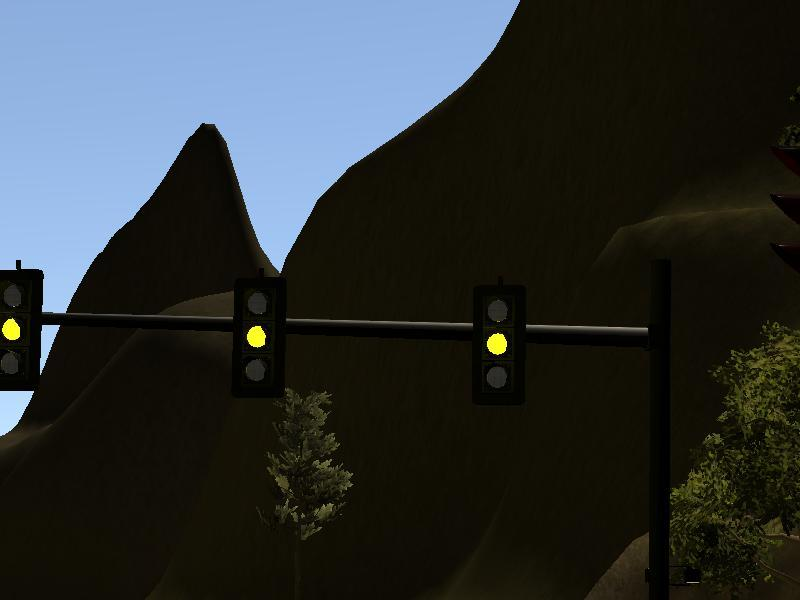Yellow: (469, 283, 526, 408), (231, 276, 285, 398), (1, 269, 43, 390)
